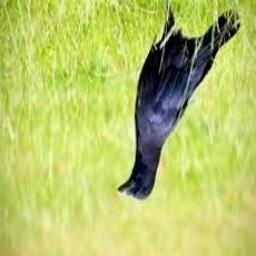Crow: (117, 0, 240, 200)
